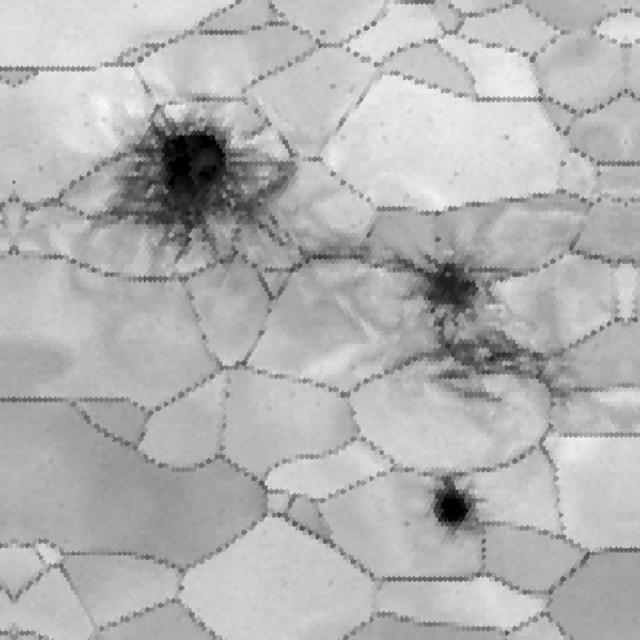good_void: (75, 71, 356, 313), (365, 201, 584, 459), (429, 464, 503, 546), (323, 77, 342, 96), (315, 27, 332, 41), (499, 132, 512, 143), (402, 518, 414, 529), (432, 234, 442, 245)
